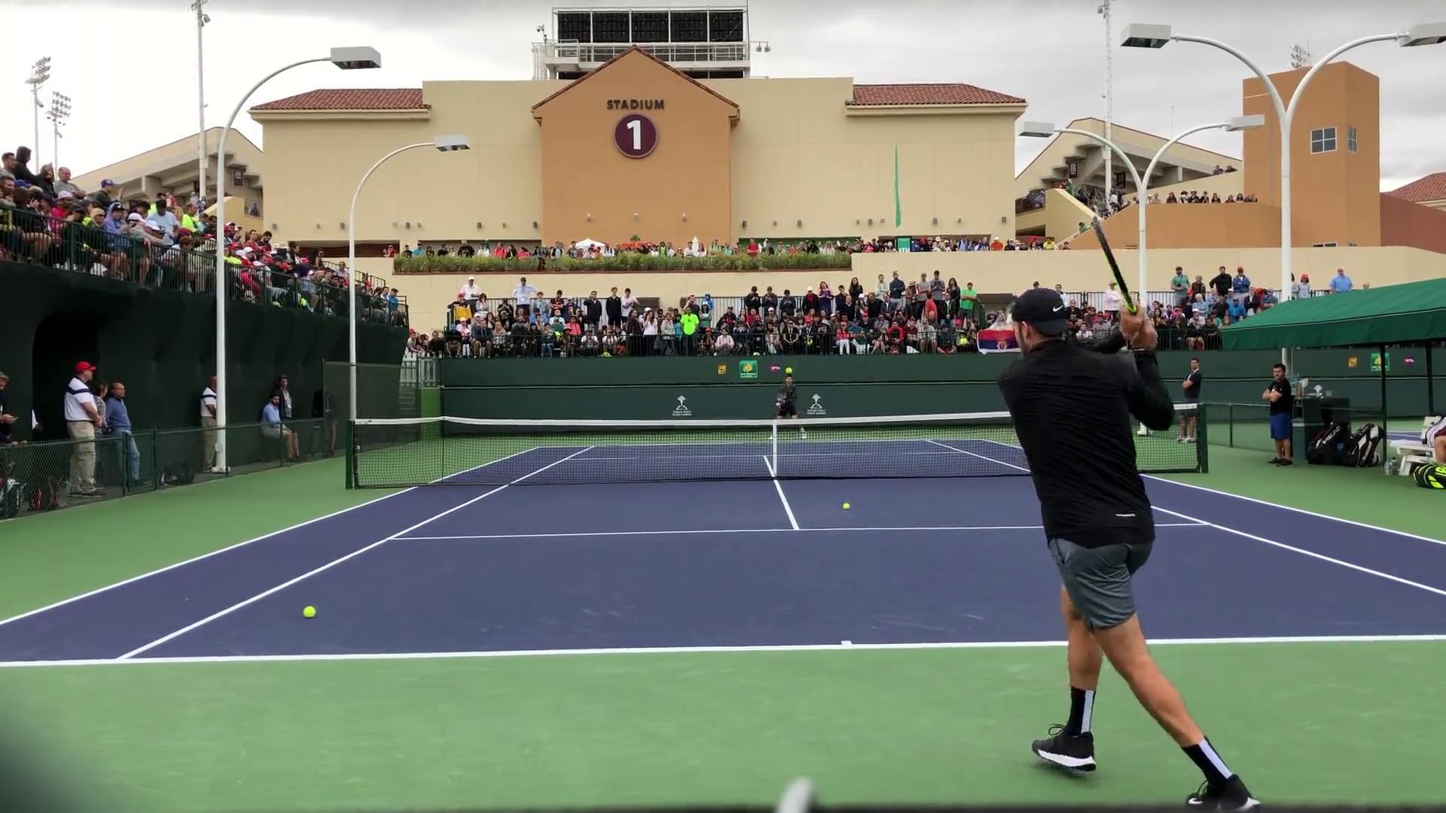ball: (302, 605, 317, 619), (841, 502, 852, 511), (784, 367, 794, 374), (1003, 410, 1011, 413)
